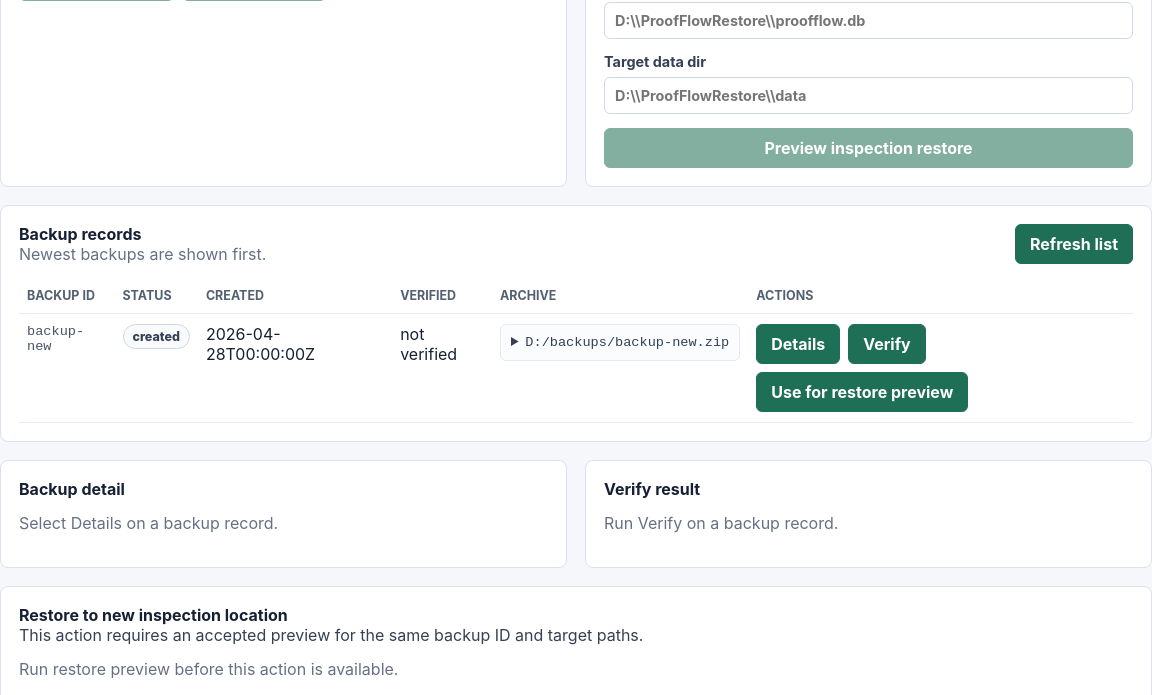
Scenario: ManagedBackupRestore › verifies a backup and displays verified status and checked file count
(page scrolled)
Click the button "Verify": (887, 344) [848,324,926,364]
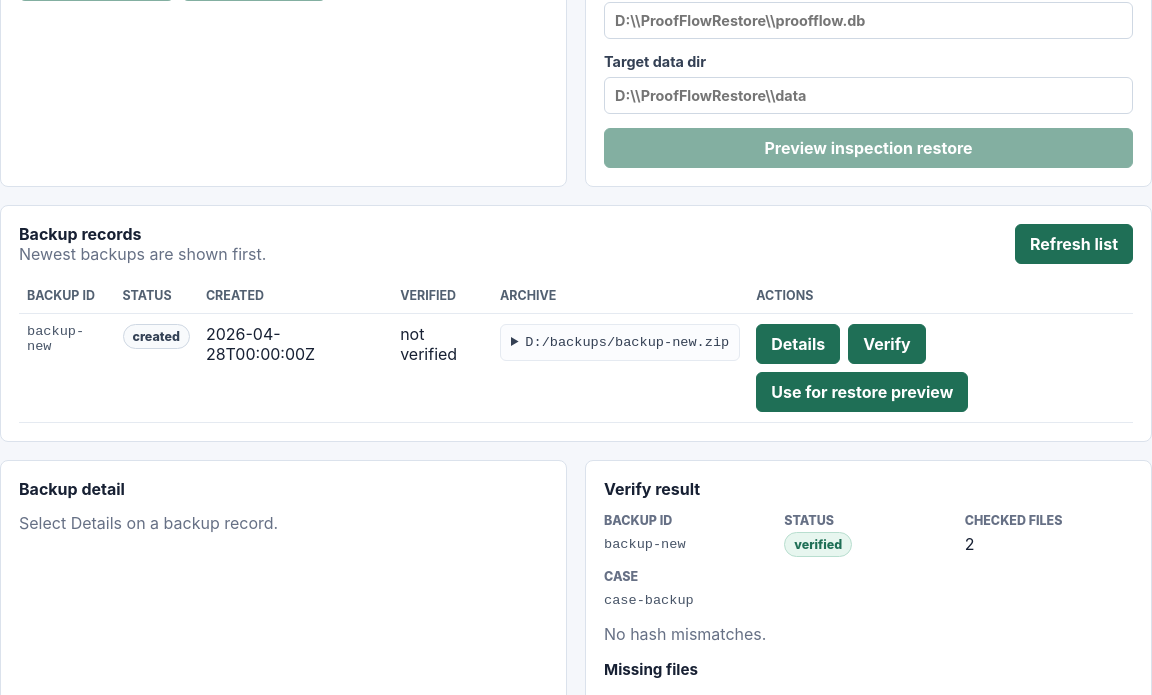
Check: the heading "Verify result" is shown, box [604,479,700,499]
Check: the text "Checked files" is shown, box [965,513,1062,528]
Check: the text "2" is shown, box [965,534,974,554]
